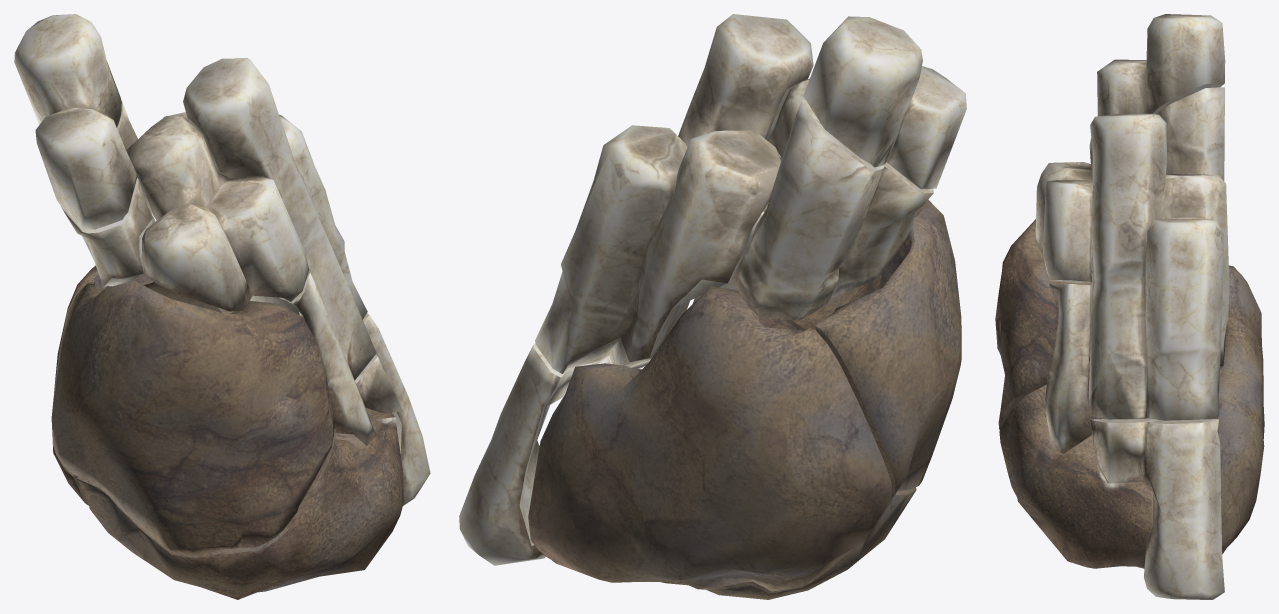
Rendered from SM_Stone2_Pieces.fbx.
3 views of the same model, side by side, from view 1: azimuth 30°, elevation 25°; view 2: azimuth 150°, elevation 25°; view 3: azimuth 270°, elevation 25° (orthographic). The views are drawn at different scales.
Visible parts, largest first — view 1: SM_Stone2_Pieces_3, SM_Stone2_Pieces_4, SM_Stone2_Pieces_6, SM_Stone2_Pieces_7, SM_Stone2_Pieces_1, SM_Stone2_Pieces_9, SM_Stone2_Pieces_8, SM_Stone2_Pieces_2, SM_Stone2_Pieces_5; view 2: SM_Stone2_Pieces_5, SM_Stone2_Pieces_7, SM_Stone2_Pieces_3, SM_Stone2_Pieces_2, SM_Stone2_Pieces_1, SM_Stone2_Pieces_9, SM_Stone2_Pieces_6, SM_Stone2_Pieces_4; view 3: SM_Stone2_Pieces_7, SM_Stone2_Pieces_9, SM_Stone2_Pieces_6, SM_Stone2_Pieces_5, SM_Stone2_Pieces_1, SM_Stone2_Pieces_3, SM_Stone2_Pieces_8, SM_Stone2_Pieces_4, SM_Stone2_Pieces_2.
Boxes of the visible parts, x1=… form: SM_Stone2_Pieces_3: x1=51, y1=280, x2=334, y2=554; SM_Stone2_Pieces_4: x1=126, y1=116, x2=309, y2=311; SM_Stone2_Pieces_6: x1=77, y1=408, x2=403, y2=599; SM_Stone2_Pieces_7: x1=163, y1=58, x2=376, y2=380; SM_Stone2_Pieces_1: x1=14, y1=14, x2=137, y2=229; SM_Stone2_Pieces_9: x1=355, y1=313, x2=430, y2=505; SM_Stone2_Pieces_8: x1=287, y1=271, x2=376, y2=445; SM_Stone2_Pieces_2: x1=60, y1=101, x2=155, y2=286; SM_Stone2_Pieces_5: x1=52, y1=265, x2=233, y2=505; SM_Stone2_Pieces_5: x1=528, y1=286, x2=892, y2=591; SM_Stone2_Pieces_7: x1=535, y1=14, x2=813, y2=373; SM_Stone2_Pieces_3: x1=786, y1=199, x2=961, y2=498; SM_Stone2_Pieces_2: x1=732, y1=100, x2=933, y2=320; SM_Stone2_Pieces_1: x1=803, y1=16, x2=966, y2=189; SM_Stone2_Pieces_9: x1=459, y1=344, x2=650, y2=565; SM_Stone2_Pieces_6: x1=541, y1=487, x2=916, y2=599; SM_Stone2_Pieces_4: x1=763, y1=78, x2=809, y2=211; SM_Stone2_Pieces_7: x1=1088, y1=113, x2=1229, y2=420; SM_Stone2_Pieces_9: x1=1090, y1=418, x2=1224, y2=599; SM_Stone2_Pieces_6: x1=999, y1=360, x2=1152, y2=568; SM_Stone2_Pieces_5: x1=1203, y1=265, x2=1264, y2=553; SM_Stone2_Pieces_1: x1=1097, y1=14, x2=1225, y2=116; SM_Stone2_Pieces_3: x1=995, y1=219, x2=1093, y2=429; SM_Stone2_Pieces_8: x1=1045, y1=283, x2=1092, y2=453; SM_Stone2_Pieces_4: x1=1035, y1=137, x2=1166, y2=283; SM_Stone2_Pieces_2: x1=1156, y1=87, x2=1224, y2=181.
Size of the model in its own units: 1.07 by 1.41 by 0.7309.
